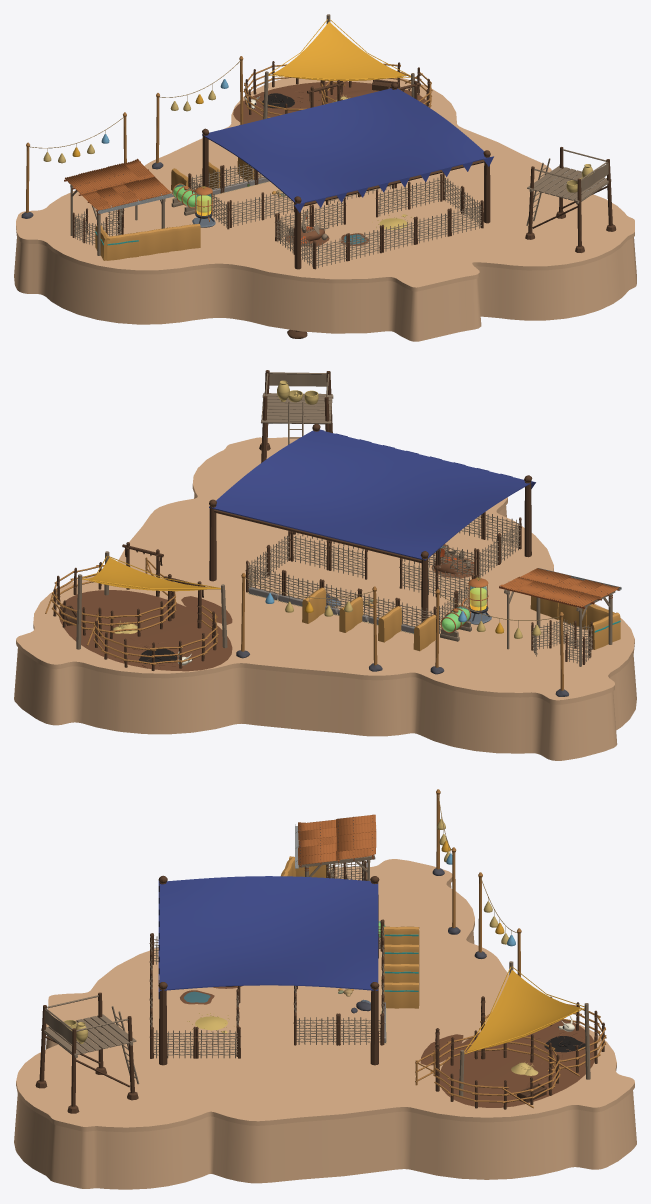
The model's file is nomad_animal_keep.fbx.
3 renders of one model, top to bottom at view 1: azimuth 30°, elevation 25°; view 2: azimuth 150°, elevation 25°; view 3: azimuth 270°, elevation 25°, orthographic. The views are drawn at different scales.
Visible parts, largest first — view 1: NomadAnimalKeep; view 2: NomadAnimalKeep; view 3: NomadAnimalKeep.
Part boxes in pixels (x1,y1,x2,y2): NomadAnimalKeep: [14, 14, 636, 341]; NomadAnimalKeep: [14, 370, 636, 760]; NomadAnimalKeep: [14, 789, 636, 1189].
Bounding box in the file's own units: 4848 × 1355 × 4721.
